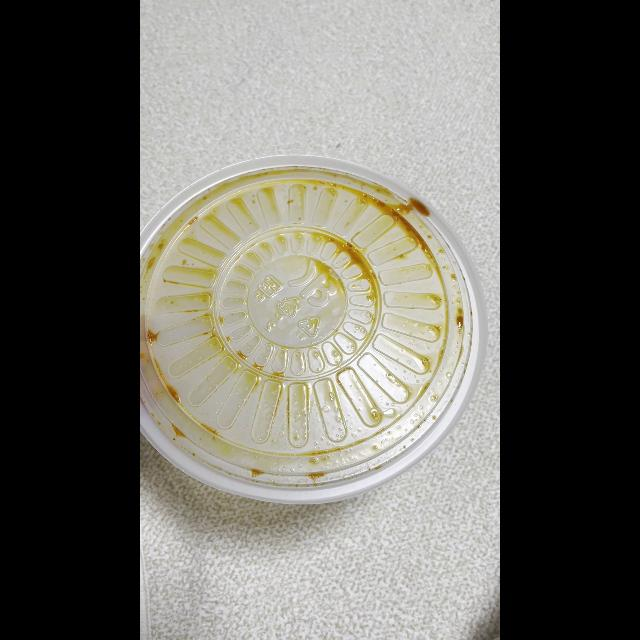dirty: (142, 162, 474, 498)
